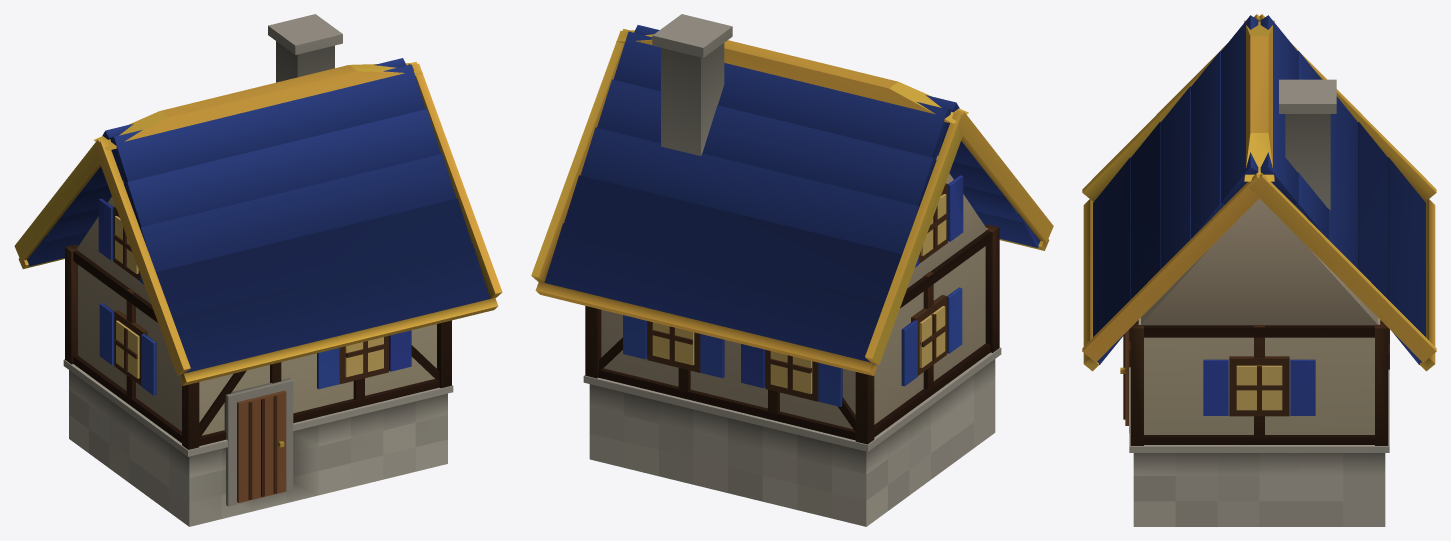
The model's file is Cottage.fbx.
The picture shows the model from 3 angles, left to right: view 1: azimuth 30°, elevation 25°; view 2: azimuth 150°, elevation 25°; view 3: azimuth 270°, elevation 25°; orthographic projection. The views are drawn at different scales.
Parts seen in each view (by area): view 1: Cottage; view 2: Cottage; view 3: Cottage.
Part boxes in pixels (<box>): Cottage: <box>14,14,502,526</box>; Cottage: <box>531,14,1053,526</box>; Cottage: <box>1082,14,1436,526</box>.
Bounding box in the file's own units: 6.36 × 7.39 × 5.86.
